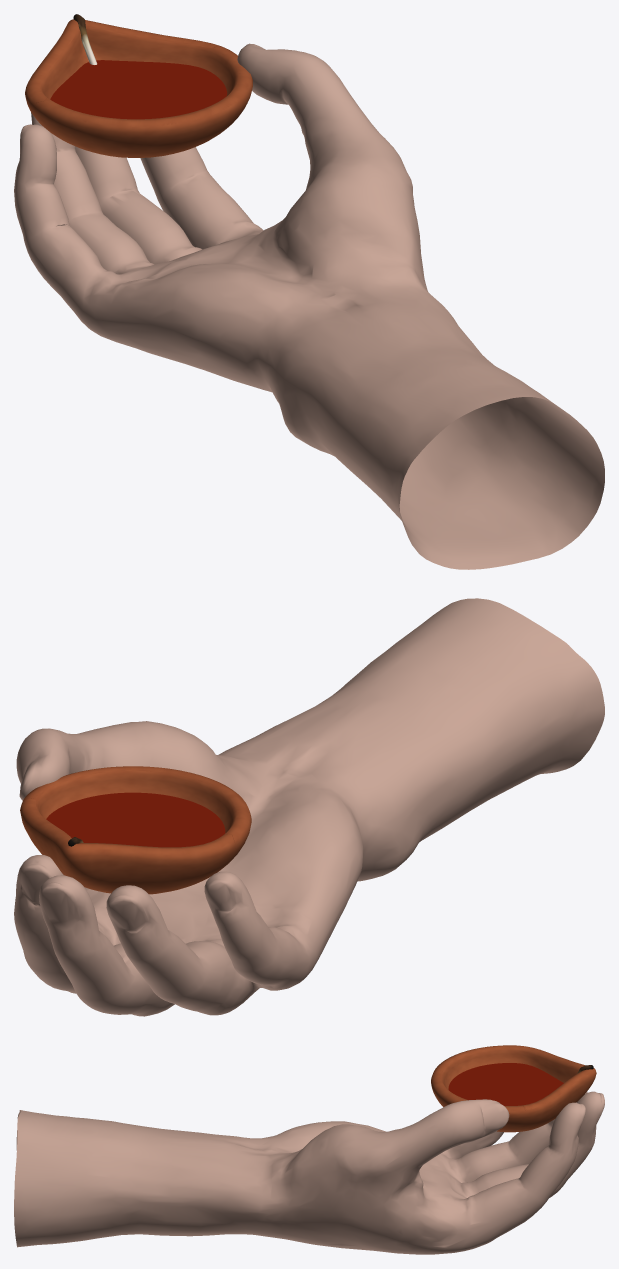
The model's file is hand_right.glb.
The picture shows the model from 3 angles, top to bottom: view 1: azimuth 30°, elevation 25°; view 2: azimuth 150°, elevation 25°; view 3: azimuth 270°, elevation 25°; orthographic projection. The views are drawn at different scales.
Parts seen in each view (by area): view 1: Hand_Right_Baked, Diya; view 2: Hand_Right_Baked, Diya; view 3: Hand_Right_Baked, Diya.
Part boxes in pixels (box(x1,y1,x2,y2)): Hand_Right_Baked: box(14, 43, 604, 569); Diya: box(25, 14, 252, 157); Hand_Right_Baked: box(14, 598, 604, 1016); Diya: box(20, 766, 251, 894); Hand_Right_Baked: box(14, 1091, 604, 1254); Diya: box(431, 1045, 596, 1132).
Size of the model in its own units: 0.4094 by 0.3319 by 1.07.
4 materials, 1 textured.
